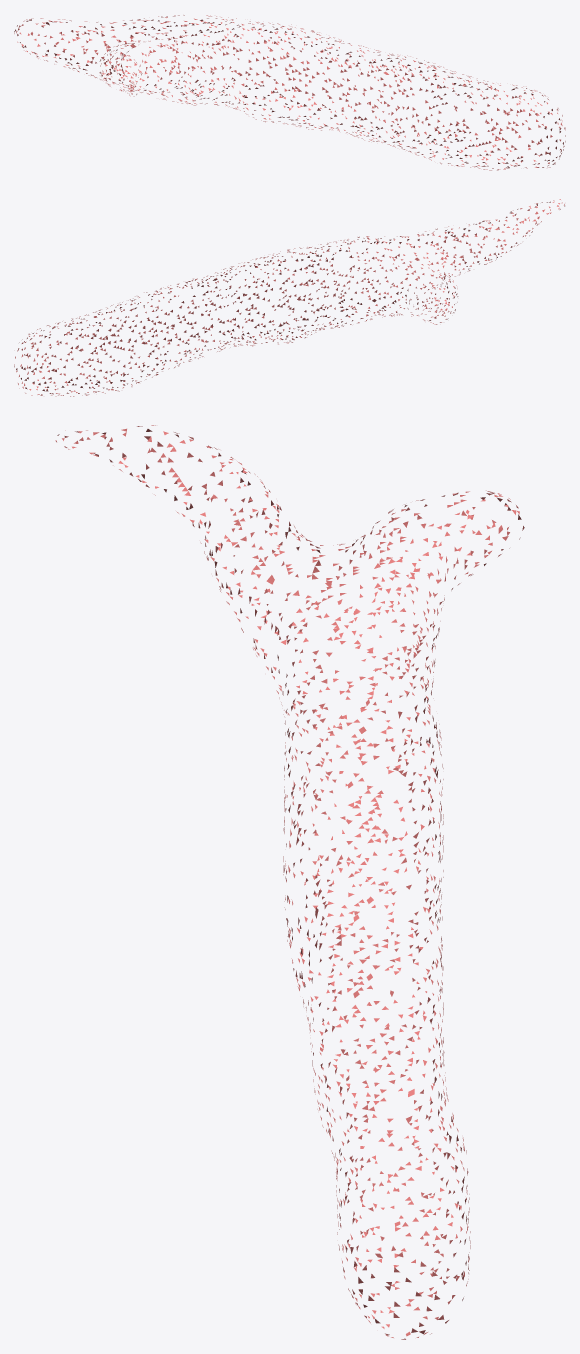
File: morph_000.glb
The picture shows the model from 3 angles, top to bottom: view 1: azimuth 30°, elevation 25°; view 2: azimuth 150°, elevation 25°; view 3: azimuth 270°, elevation 25°; orthographic projection. The views are drawn at different scales.
Size of the model in its own units: 118 by 60.46 by 52.25.
